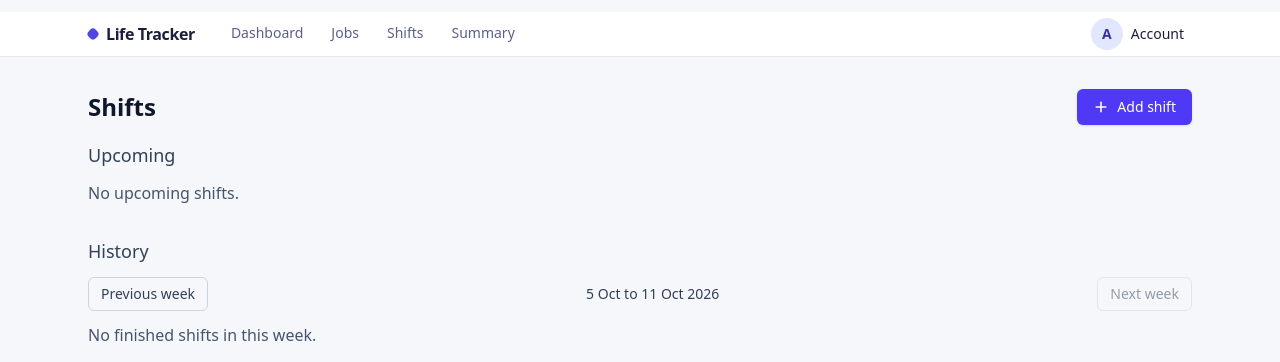
ShiftsPage › moves the History week back and forward, but not past the current week
Expected: the text "No upcoming shifts." is shown, [88,182,239,204]
Expected: the button "Next week" is disabled, [1097,277,1192,311]
Click the button "Previous week" at (148, 294), box [88,277,208,311]
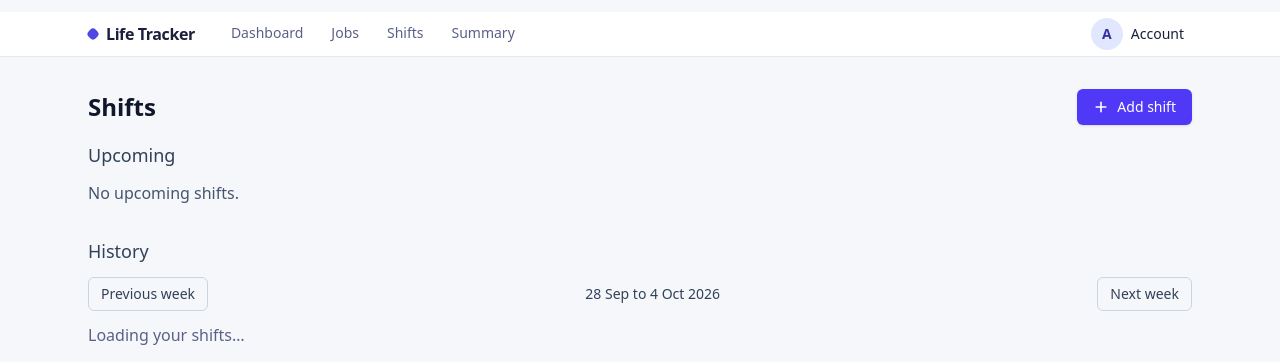
Now the text "28 Sep to 4 Oct 2026" is shown, box [585,284,720,303]
Now the button "Next week" is enabled
Click the button "Next week" at (1145, 294), box [1097,277,1192,311]
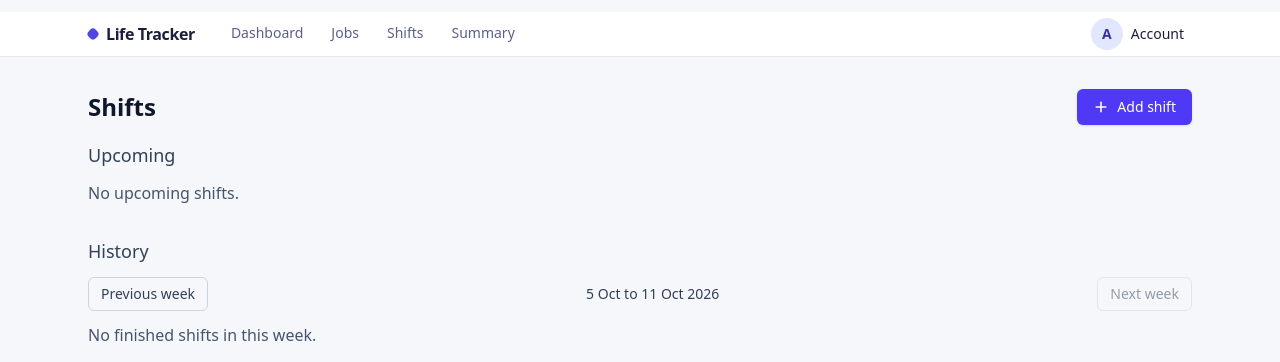
Now the text "5 Oct to 11 Oct 2026" is shown, box [586,284,719,303]
Now the button "Next week" is disabled, box [1097,277,1192,311]
